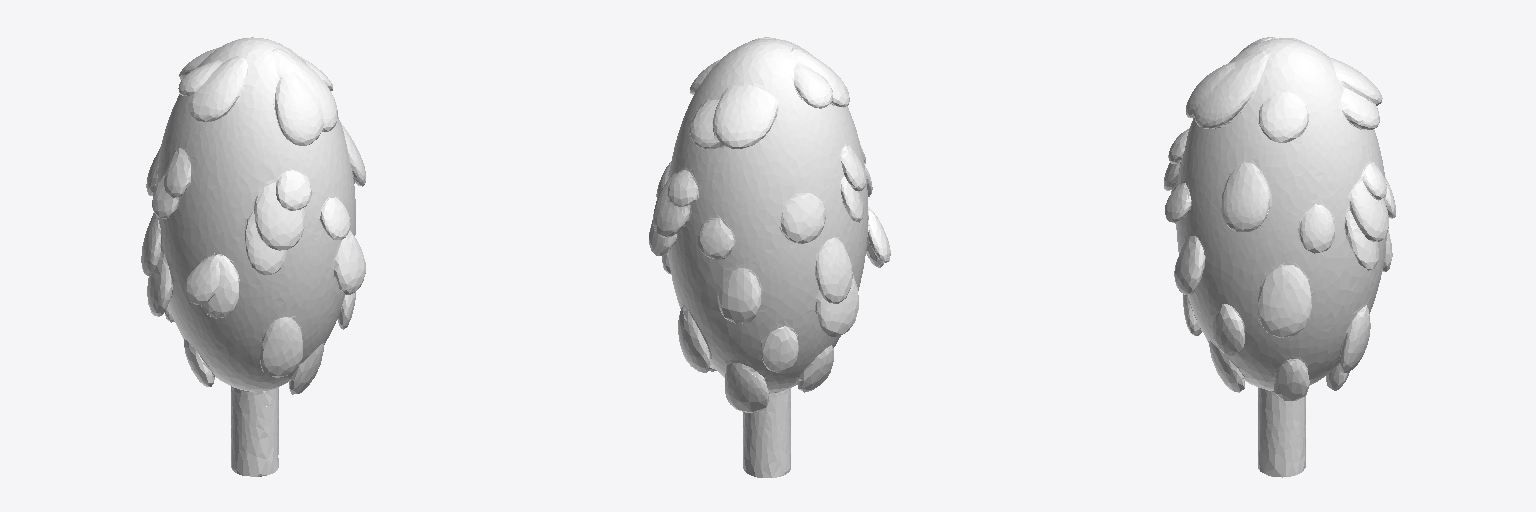
The model's file is Tree01.obj.
The picture shows the model from 3 angles: view 1: azimuth 30°, elevation 25°; view 2: azimuth 150°, elevation 25°; view 3: azimuth 270°, elevation 25°; orthographic projection.
Parts seen in each view (by area): view 1: Tree01; view 2: Tree01; view 3: Tree01.
Part boxes in pixels (bbox=[...]): Tree01: bbox=[141, 37, 365, 476]; Tree01: bbox=[649, 37, 890, 477]; Tree01: bbox=[1164, 37, 1395, 477].
Bounding box in the file's own units: 1.43 × 2.99 × 1.49.